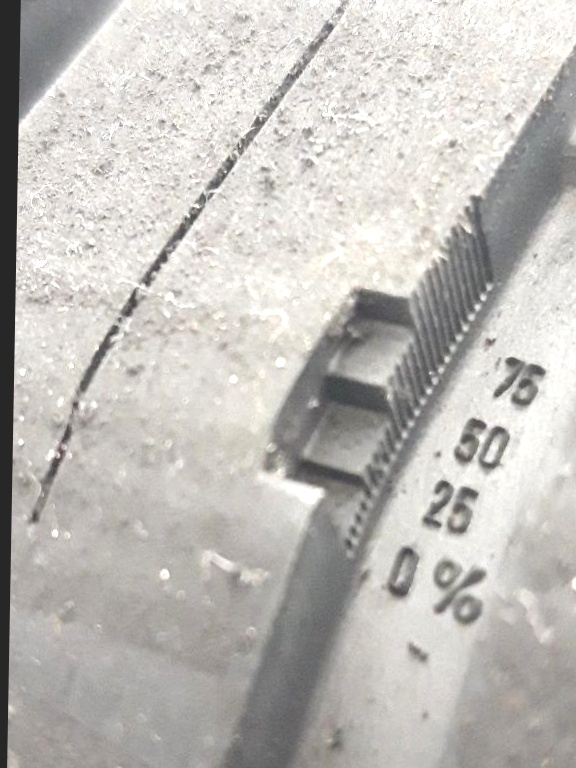temoin:75: (239, 227, 487, 585)
